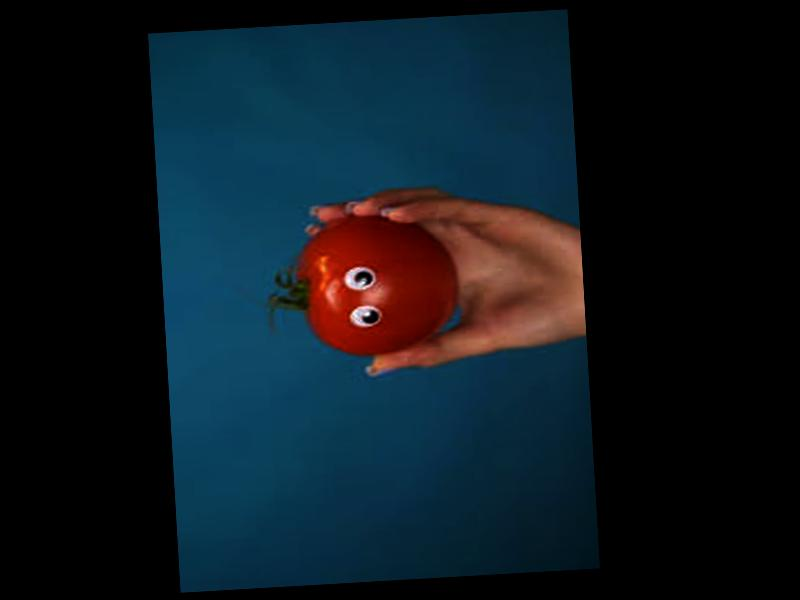Tomato: (291, 209, 462, 360)
